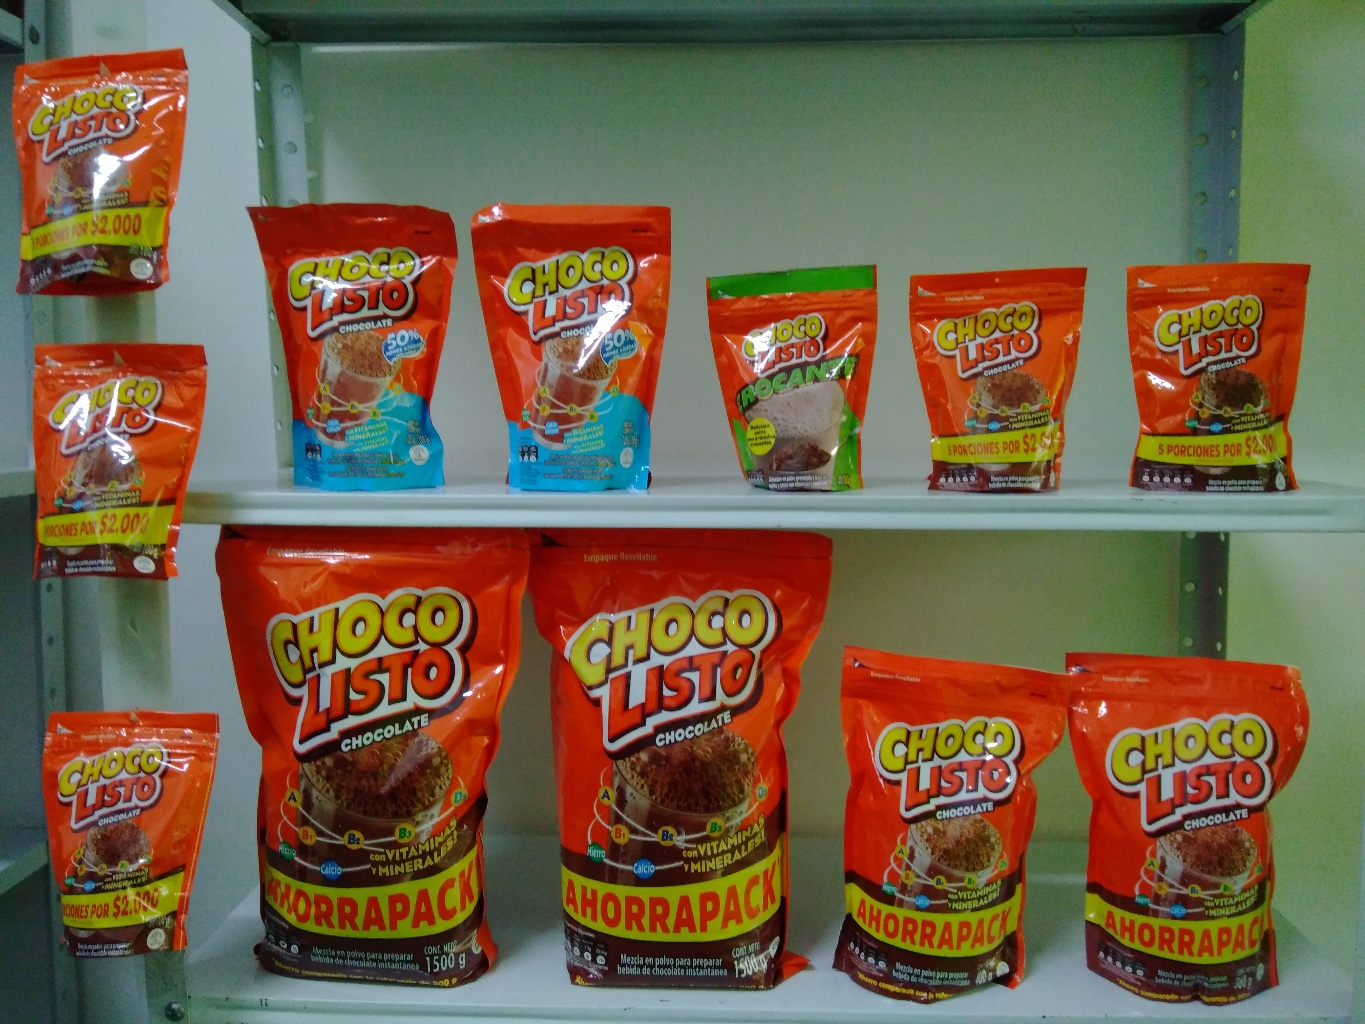COL0170102DYP10000: (693, 262, 894, 496)
COL0170103DYP1,500: (518, 524, 844, 1001)
COL0170103DYP10000: (1115, 253, 1319, 502)
COL0170103DYP36000: (1054, 638, 1324, 1012)
COL0170103DYP40000: (823, 635, 1082, 1012)
COL0170104DYP20000: (463, 188, 685, 501)
